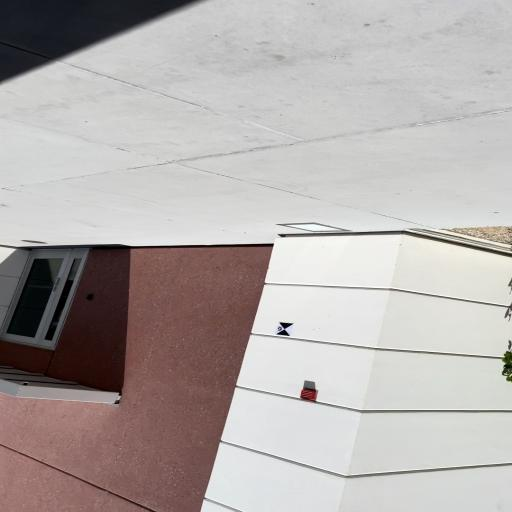target6: (275, 322, 294, 336)
